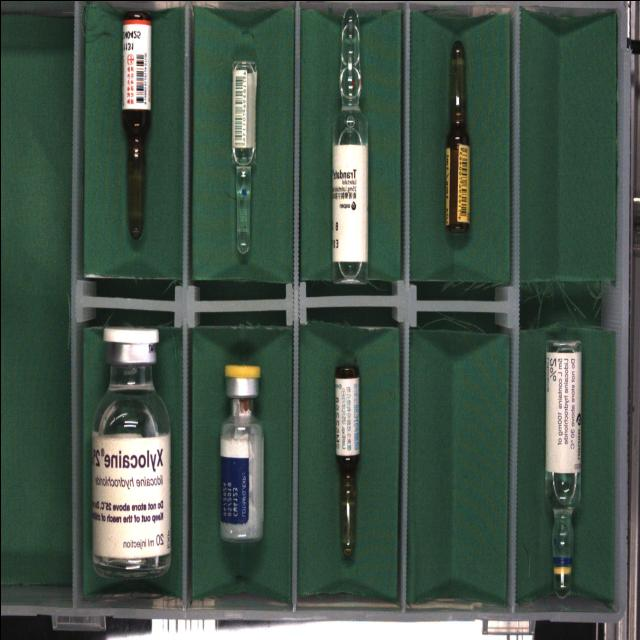Vials: (91, 326, 170, 576), (219, 363, 263, 541)
